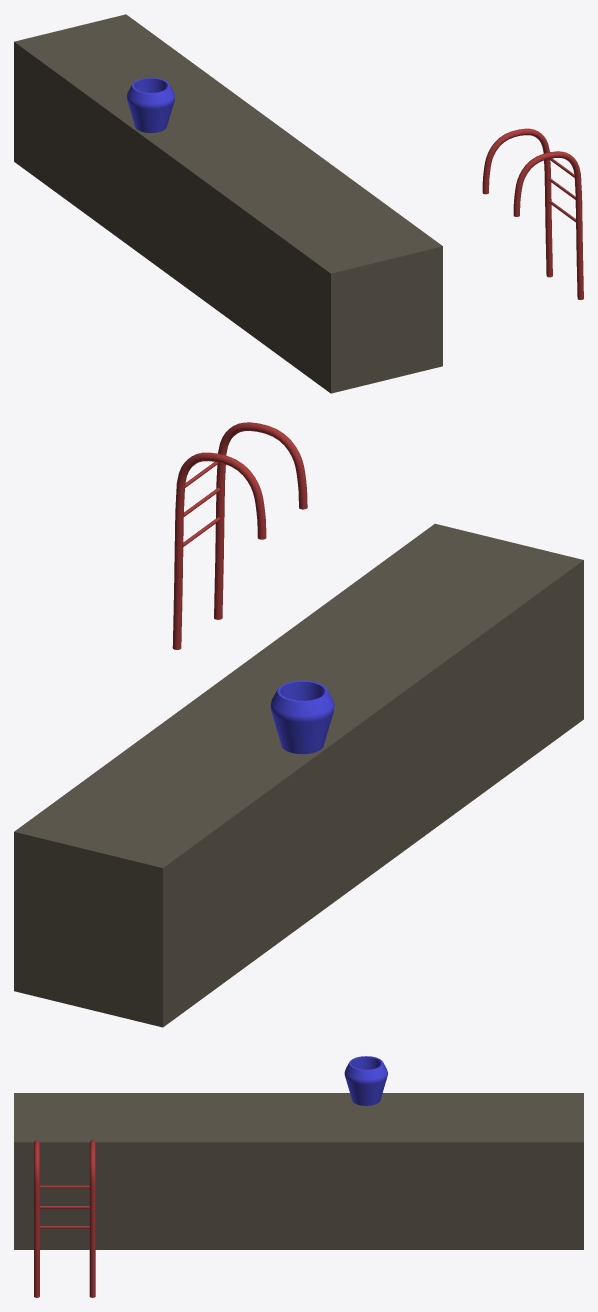
Rendered from Lab10Export.fbx.
3 renders of one model, top to bottom at view 1: azimuth 30°, elevation 25°; view 2: azimuth 150°, elevation 25°; view 3: azimuth 270°, elevation 25°, orthographic. The views are drawn at different scales.
Visible parts, largest first — view 1: ConcreteShellDock_WB, Vase_WB, LadderLeg1, LadderLeg2; view 2: ConcreteShellDock_WB, Vase_WB, LadderLeg2, LadderLeg1; view 3: ConcreteShellDock_WB, Vase_WB, LadderLeg2, LadderLeg1.
Boxes of the visible parts, x1=… form: ConcreteShellDock_WB: x1=14, y1=14, x2=442, y2=393; Vase_WB: x1=127, y1=77, x2=174, y2=132; LadderLeg1: x1=513, y1=151, x2=583, y2=299; LadderLeg2: x1=482, y1=128, x2=552, y2=277; ConcreteShellDock_WB: x1=14, y1=523, x2=583, y2=1027; Vase_WB: x1=270, y1=680, x2=334, y2=754; LadderLeg2: x1=172, y1=452, x2=266, y2=649; LadderLeg1: x1=214, y1=422, x2=307, y2=619; ConcreteShellDock_WB: x1=14, y1=1093, x2=583, y2=1249; Vase_WB: x1=344, y1=1056, x2=387, y2=1105; LadderLeg2: x1=89, y1=1140, x2=95, y2=1297; LadderLeg1: x1=34, y1=1140, x2=39, y2=1297.
Bounding box in the file's own units: 3.57 × 2.21 × 7.24.
